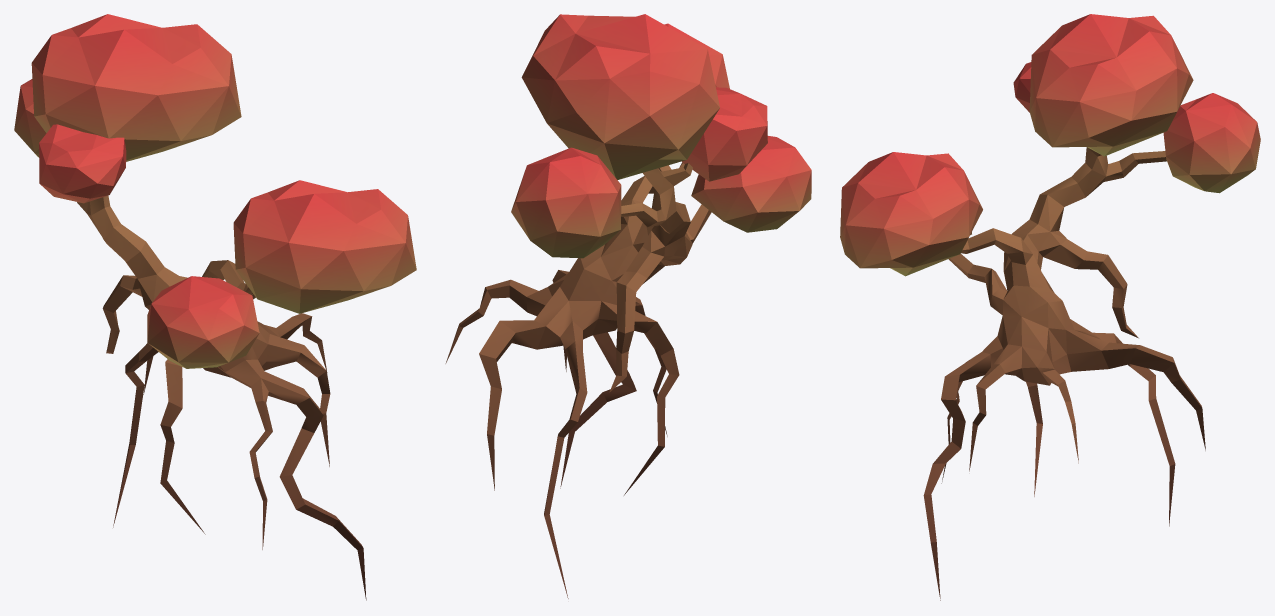
File: ZLP_Plant_D_9.FBX
3 views of the same model, side by side, from view 1: azimuth 30°, elevation 25°; view 2: azimuth 150°, elevation 25°; view 3: azimuth 270°, elevation 25° (orthographic). The views are drawn at different scales.
Visible parts, largest first — view 1: ZLP_Plant_D_9; view 2: ZLP_Plant_D_9; view 3: ZLP_Plant_D_9.
Boxes of the visible parts, x1,y1,x2,y2 form: ZLP_Plant_D_9: (14, 14, 416, 600); ZLP_Plant_D_9: (445, 14, 811, 598); ZLP_Plant_D_9: (840, 14, 1260, 600).
Size of the model in its own units: 463 by 831 by 616.
